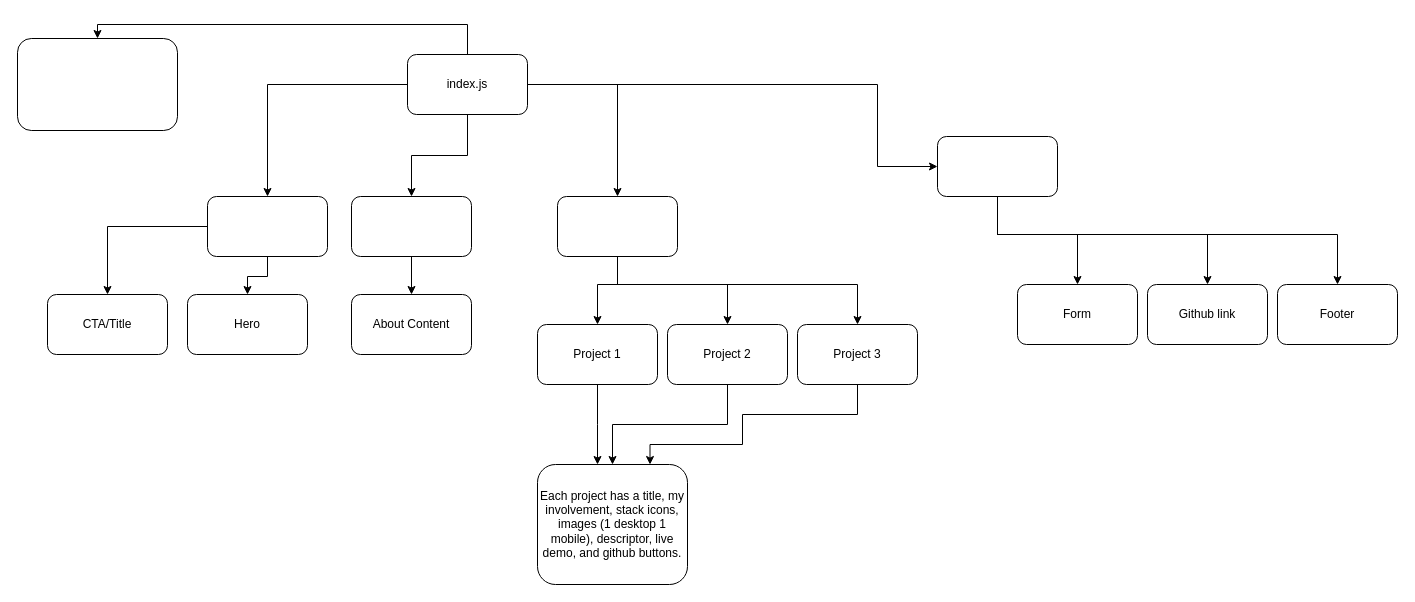
This 1415x602 diagram has some shape labels left out. Here are the shapes that lost their labels. From the top down, the centre of each, then its label:
At (97,84): "Nav/socials/logo/toggler".
At (997,166): "Contact".
At (267,226): "Home".
At (411,226): "About".
At (617,226): "Projects".
